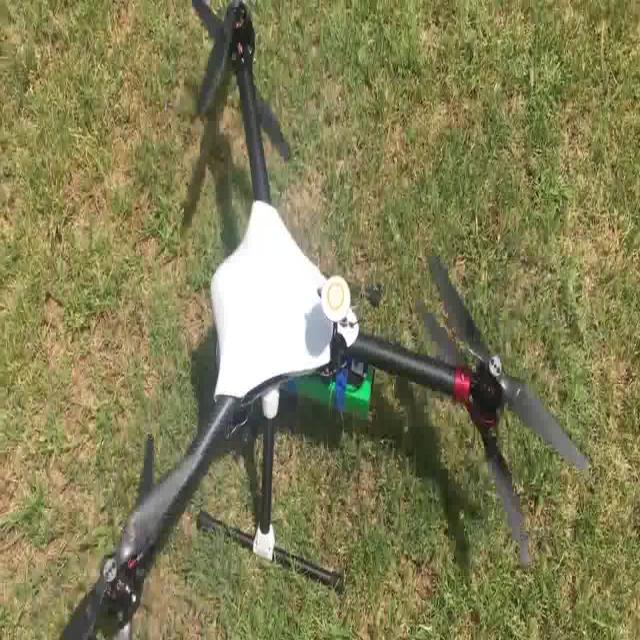drones: (40, 0, 597, 640)
